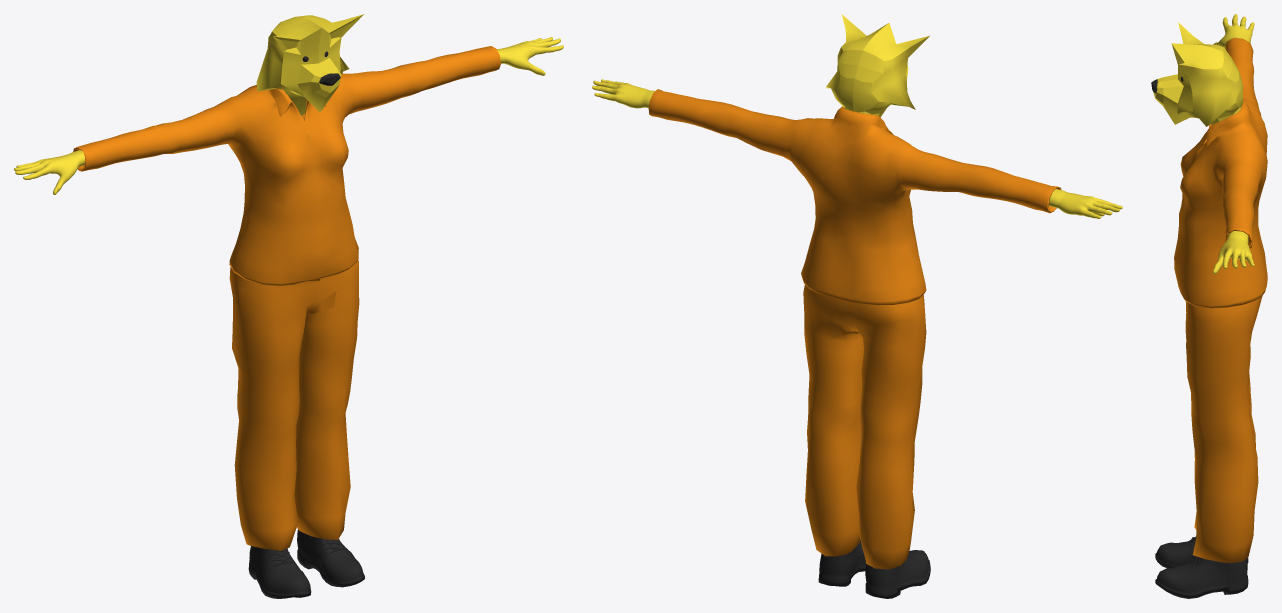
Rendered from Hobbs.obj.
The picture shows the model from 3 angles, left to right: view 1: azimuth 30°, elevation 25°; view 2: azimuth 150°, elevation 25°; view 3: azimuth 270°, elevation 25°; orthographic projection. The views are drawn at different scales.
Parts seen in each view (by area): view 1: Yellow_Model_and_Texture:Leslie_Model_With_Texture:pSphere3pSphe; view 2: Yellow_Model_and_Texture:Leslie_Model_With_Texture:pSphere3pSphe; view 3: Yellow_Model_and_Texture:Leslie_Model_With_Texture:pSphere3pSphe.
Boxes of the visible parts, x1,y1,x2,y2 form: Yellow_Model_and_Texture:Leslie_Model_With_Texture:pSphere3pSphe: (14, 14, 563, 598); Yellow_Model_and_Texture:Leslie_Model_With_Texture:pSphere3pSphe: (592, 14, 1122, 598); Yellow_Model_and_Texture:Leslie_Model_With_Texture:pSphere3pSphe: (1151, 14, 1267, 598).
Size of the model in its own units: 10.6 by 10.49 by 2.07.
Materials: 1 (1 with a texture image).
